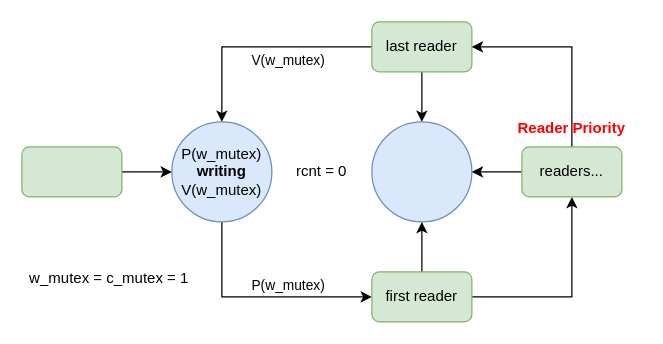
The diagram is 663 pixels wide and 344 high, and some of its shapes have lost their labels. The shapes that lost their labels are listed below. From the top down, each one's centre as x and y in pixels, then its label:
[71,171]: writer
[421,171]: P(c_mutex) rcnt V(c_mutex)
